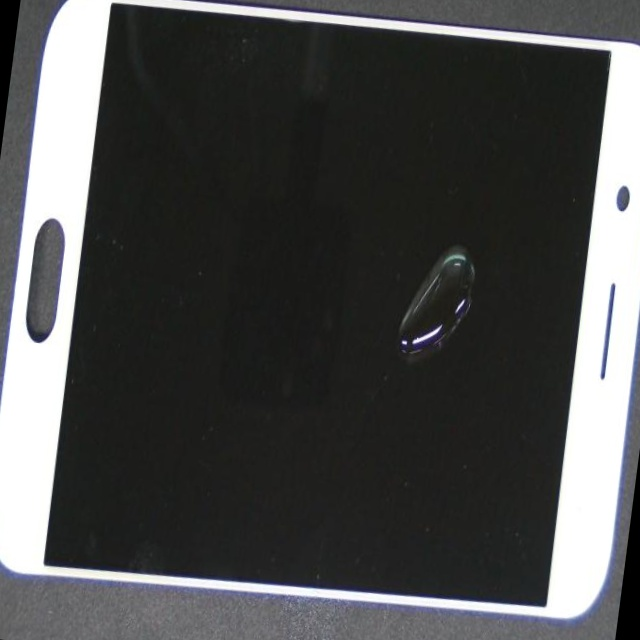oil: (228, 25, 640, 460)
